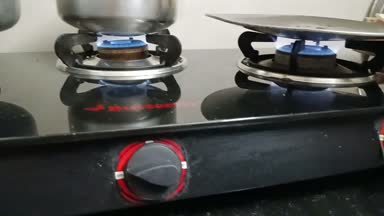flame_gas_on: (79, 32, 183, 197), (255, 33, 361, 85)
